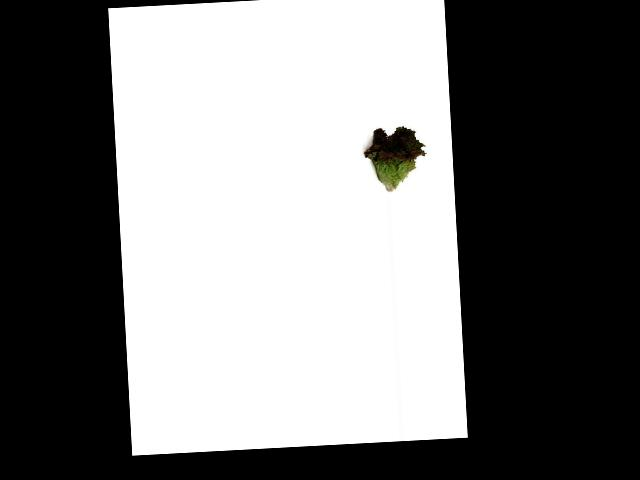lettuce: (356, 116, 430, 194)
